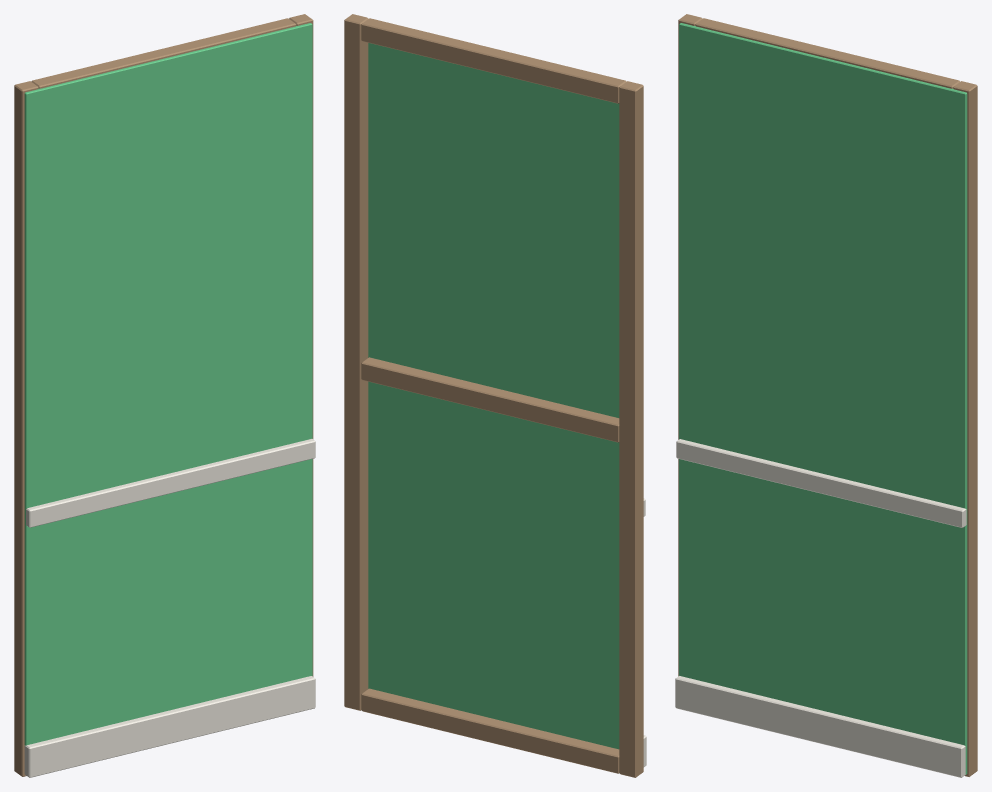
File: 35487_Green_Screen_Flat__TV_Studio_and_Broadcast_Gallery_.glb
3 views of the same model, side by side, from view 1: azimuth 30°, elevation 25°; view 2: azimuth 150°, elevation 25°; view 3: azimuth 330°, elevation 25° (orthographic).
Parts seen in each view (by area): view 1: green-screen-flat; view 2: green-screen-flat; view 3: green-screen-flat.
Boxes of the visible parts, x1=… form: green-screen-flat: x1=14, y1=14, x2=315, y2=777; green-screen-flat: x1=344, y1=14, x2=646, y2=777; green-screen-flat: x1=675, y1=14, x2=977, y2=777.
Size of the model in its own units: 1.2 by 2.7 by 0.096.
